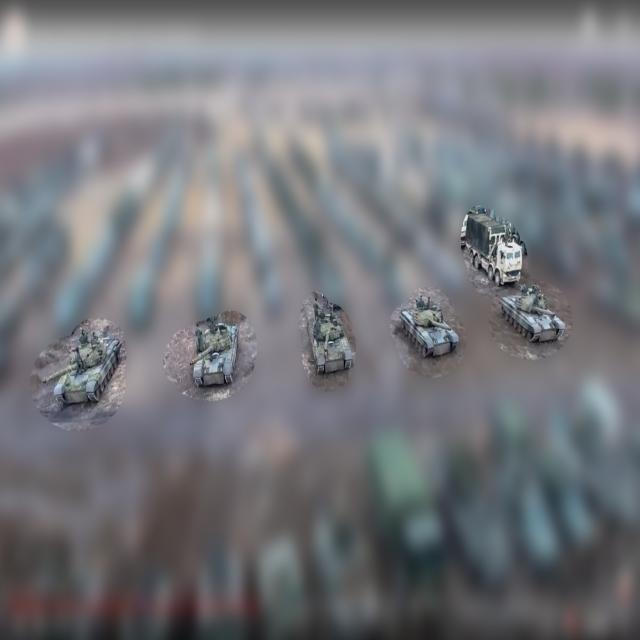tank: (41, 328, 123, 410), (397, 296, 460, 362), (499, 284, 568, 344), (188, 316, 241, 393), (306, 301, 355, 378)
